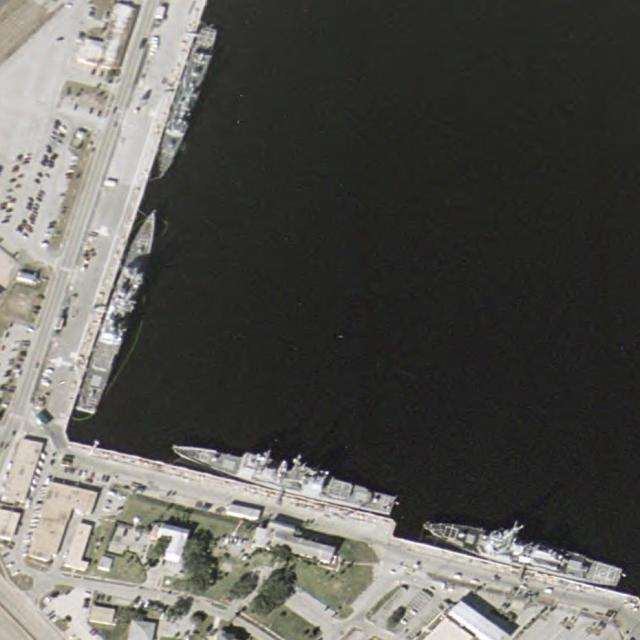Cruiser: (75, 206, 164, 414), (167, 440, 396, 514)
Destroyer: (418, 516, 626, 590)
Frigate: (154, 23, 217, 180)
